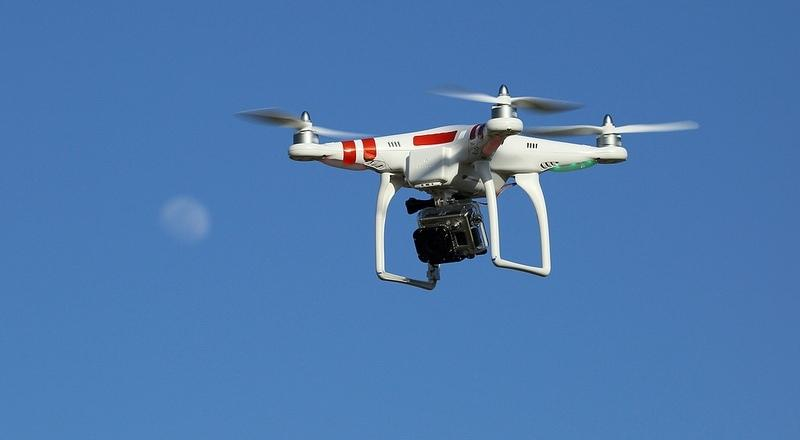drone: (276, 87, 649, 292)
